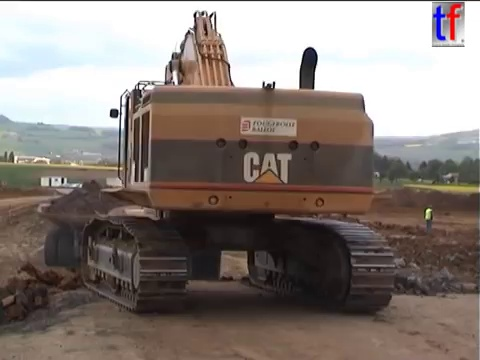excavator: (75, 6, 400, 318)
truck: (34, 182, 179, 270)
worker: (421, 202, 438, 233)
